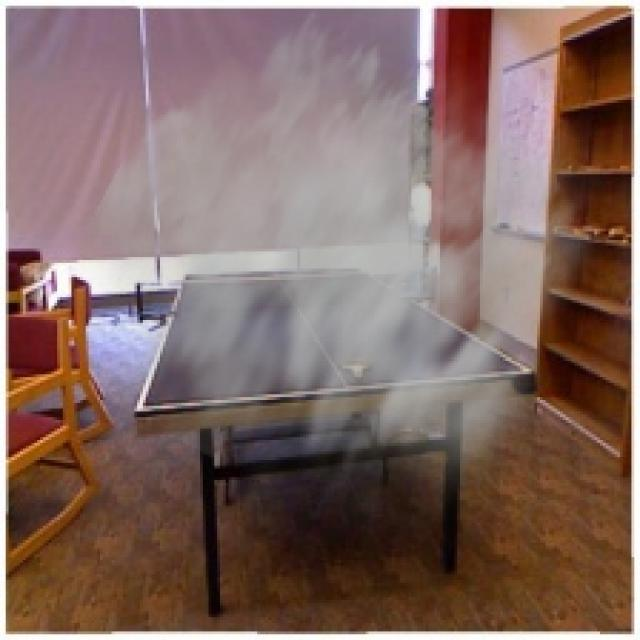smoke: (60, 6, 620, 568)
